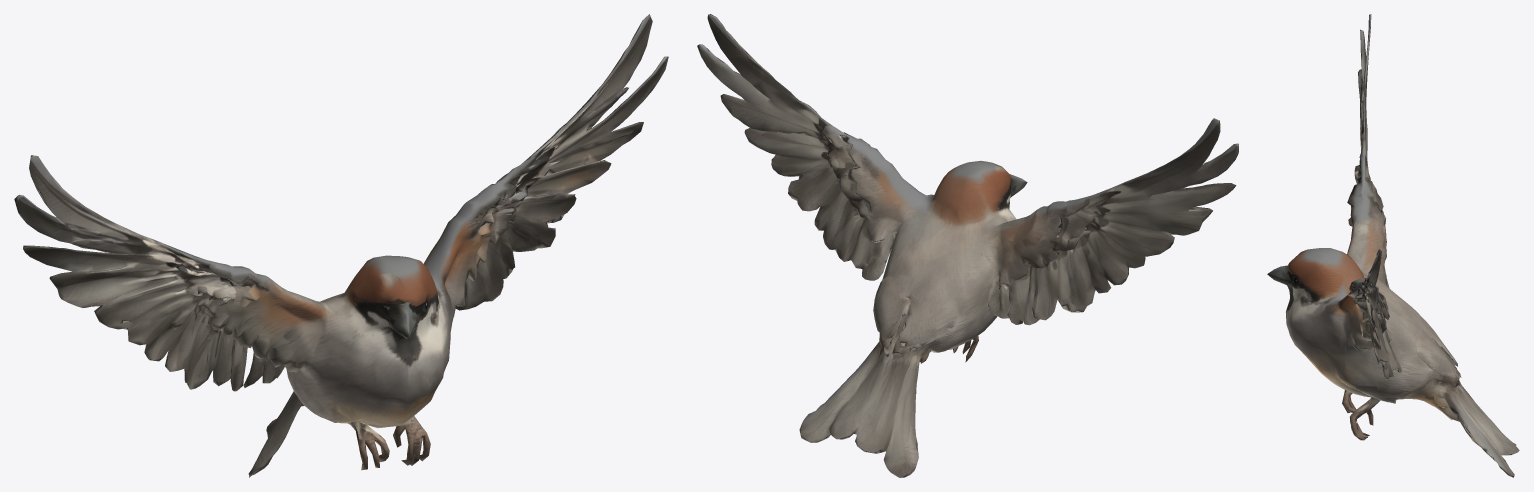
File: finch_A_h25.glb
3 renders of one model, left to right at view 1: azimuth 30°, elevation 25°; view 2: azimuth 150°, elevation 25°; view 3: azimuth 270°, elevation 25°, orthographic. The views are drawn at different scales.
Visible parts, largest first — view 1: tripo_node_b5135f62-f6f7-44f7-9fac-8d6a4fb5f30a; view 2: tripo_node_b5135f62-f6f7-44f7-9fac-8d6a4fb5f30a; view 3: tripo_node_b5135f62-f6f7-44f7-9fac-8d6a4fb5f30a.
Boxes of the visible parts, x1,y1,x2,y2 form: tripo_node_b5135f62-f6f7-44f7-9fac-8d6a4fb5f30a: [14, 14, 668, 477]; tripo_node_b5135f62-f6f7-44f7-9fac-8d6a4fb5f30a: [697, 14, 1238, 477]; tripo_node_b5135f62-f6f7-44f7-9fac-8d6a4fb5f30a: [1267, 14, 1519, 477].
Size of the model in its own units: 0.9997 by 0.6591 by 0.4491.
Materials: 1 (1 with a texture image).
